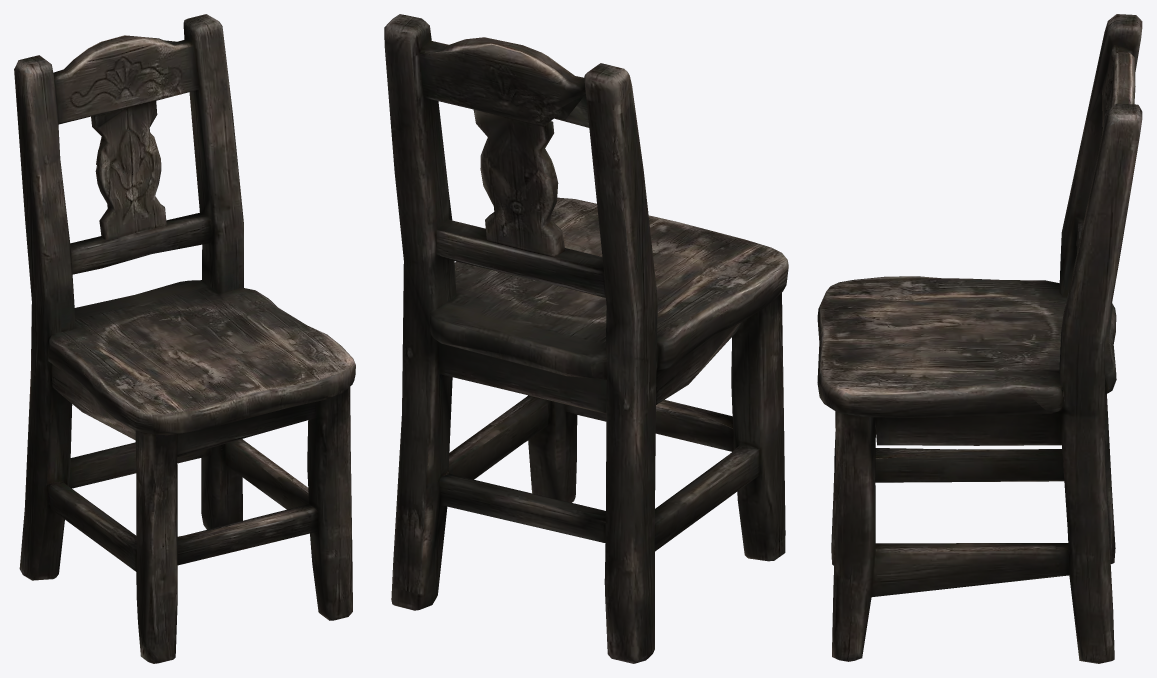
The model's file is chair.glb.
3 views of the same model, side by side, from view 1: azimuth 30°, elevation 25°; view 2: azimuth 150°, elevation 25°; view 3: azimuth 270°, elevation 25° (orthographic). The views are drawn at different scales.
Visible parts, largest first — view 1: Mesh_0; view 2: Mesh_0; view 3: Mesh_0.
Boxes of the visible parts, left/top/right/bottom form: Mesh_0: left=14, top=14, right=355, bottom=663; Mesh_0: left=384, top=14, right=788, bottom=663; Mesh_0: left=817, top=14, right=1142, bottom=663.
Bounding box in the file's own units: 0.8814 × 1.9 × 1.02.
1 material, 1 textured.
